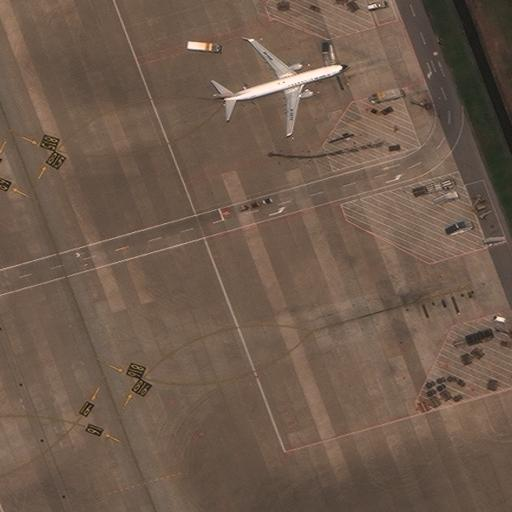Medium Civil Transport: (221, 36, 347, 134)
